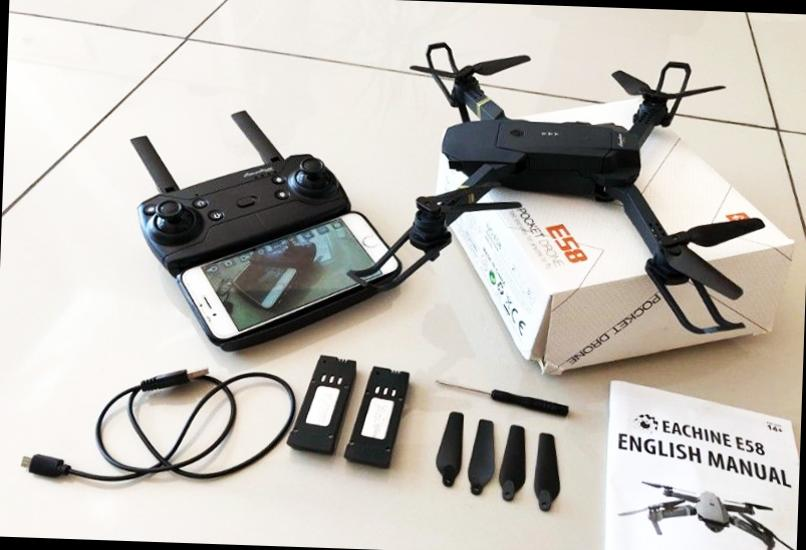drone: (360, 37, 786, 345), (623, 471, 799, 550)
